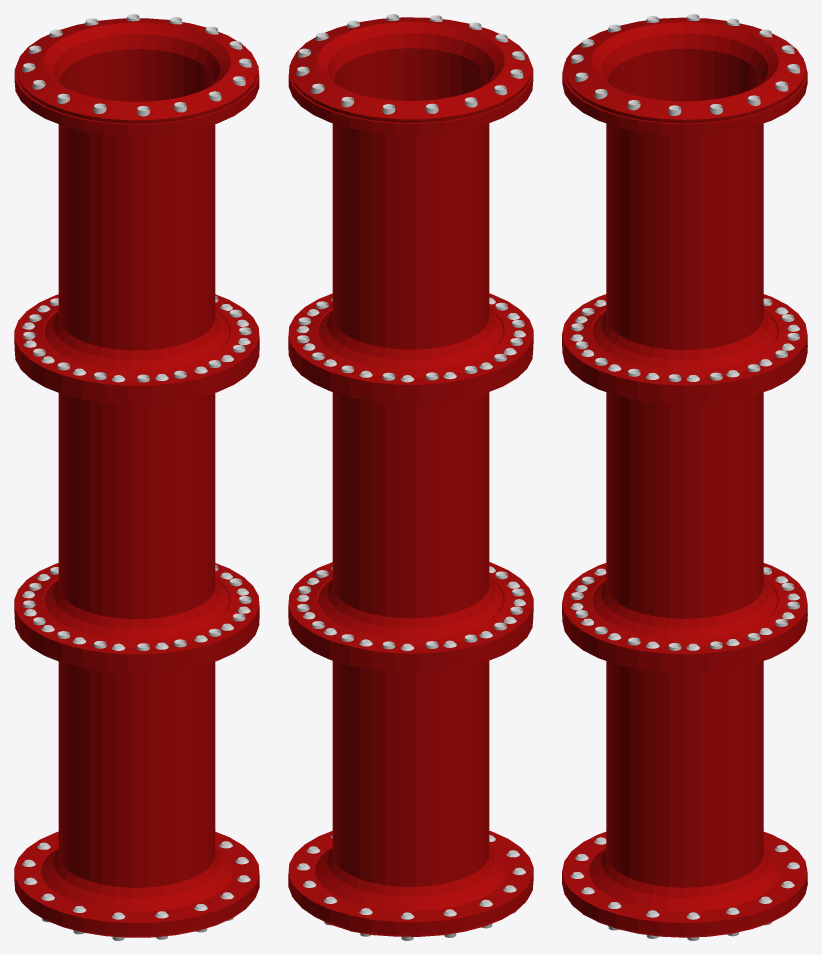
File: Enter_Pipe_Red.fbx
3 renders of one model, left to right at view 1: azimuth 30°, elevation 25°; view 2: azimuth 150°, elevation 25°; view 3: azimuth 270°, elevation 25°, orthographic.
Visible parts, largest first — view 1: Cylinder.000; view 2: Cylinder.000; view 3: Cylinder.000.
Boxes of the visible parts, x1=… form: Cylinder.000: x1=14, y1=14, x2=259, y2=940; Cylinder.000: x1=288, y1=14, x2=533, y2=940; Cylinder.000: x1=562, y1=14, x2=807, y2=940.
Bounding box in the file's own units: 35.51 × 133 × 35.51.
